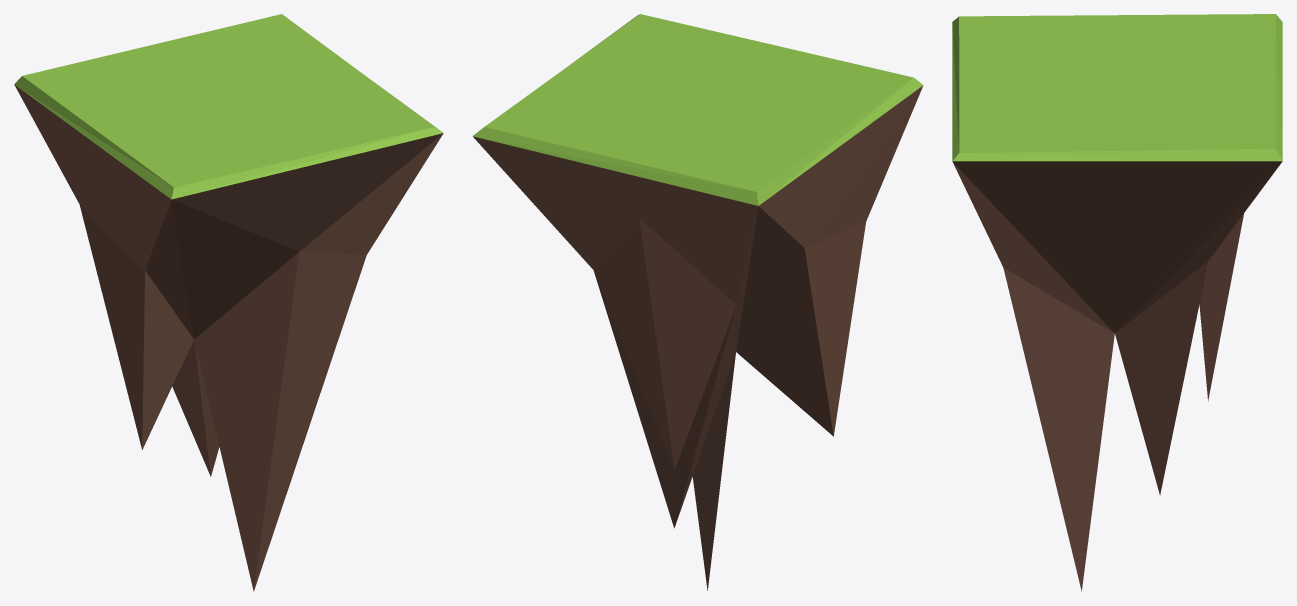
The model's file is FloatingIsland.gltf.
3 views of the same model, side by side, from view 1: azimuth 30°, elevation 25°; view 2: azimuth 150°, elevation 25°; view 3: azimuth 270°, elevation 25° (orthographic). The views are drawn at different scales.
Parts seen in each view (by area): view 1: group1926919455; view 2: group1926919455; view 3: group1926919455.
Boxes of the visible parts, x1,y1,x2,y2 form: group1926919455: [14, 14, 443, 591]; group1926919455: [472, 14, 923, 590]; group1926919455: [952, 14, 1282, 591].
Size of the model in its own units: 0.87 by 1.47 by 0.87.
